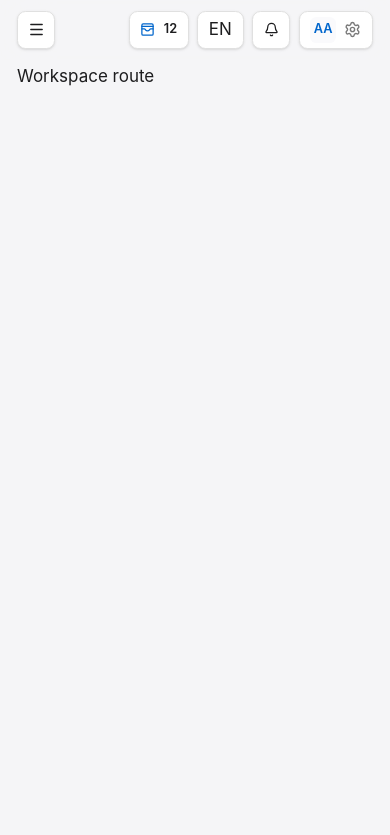
Test case: AppShell navigation › renders grouped navigation inside the mobile drawer
Click the button named "Open navigation".
click(36, 30)  # box [17,11,55,49]
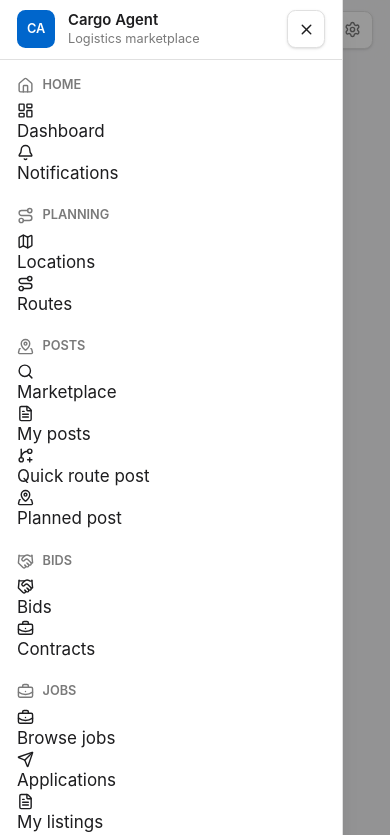
Result: the text "Planning" is shown at [17,207,109,224]
Result: the link "Locations" is shown at [17,233,95,272]
Result: the link "Quick route post" is shown at [17,447,150,486]
